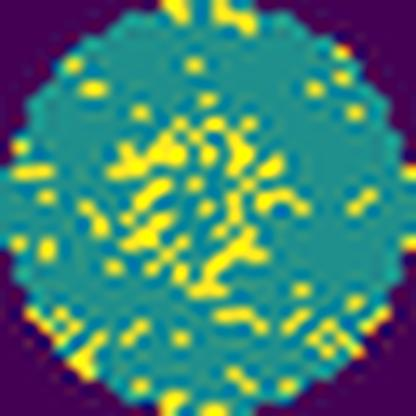Donut: (87, 95, 315, 312)
